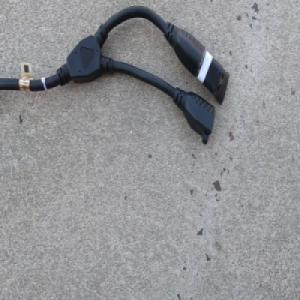Wire: (0, 5, 231, 147)
